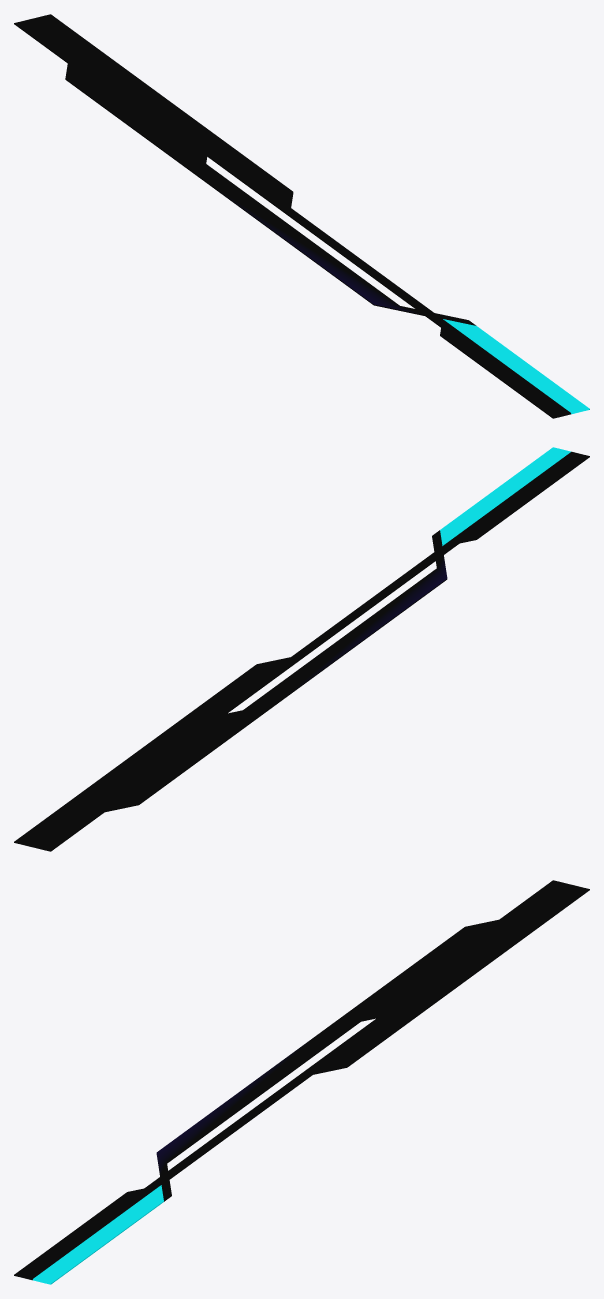
The model's file is Gap-Mid.FBX.
3 views of the same model, one above another, from view 1: azimuth 30°, elevation 25°; view 2: azimuth 150°, elevation 25°; view 3: azimuth 330°, elevation 25° (orthographic).
Visible parts, largest first — view 1: Gap Mid 1; view 2: Gap Mid 1; view 3: Gap Mid 1.
Boxes of the visible parts, x1,y1,x2,y2 form: Gap Mid 1: (14, 14, 589, 418); Gap Mid 1: (14, 447, 589, 851); Gap Mid 1: (14, 880, 589, 1284).
Bounding box in the file's own units: 1200 × 20282 × 20.
